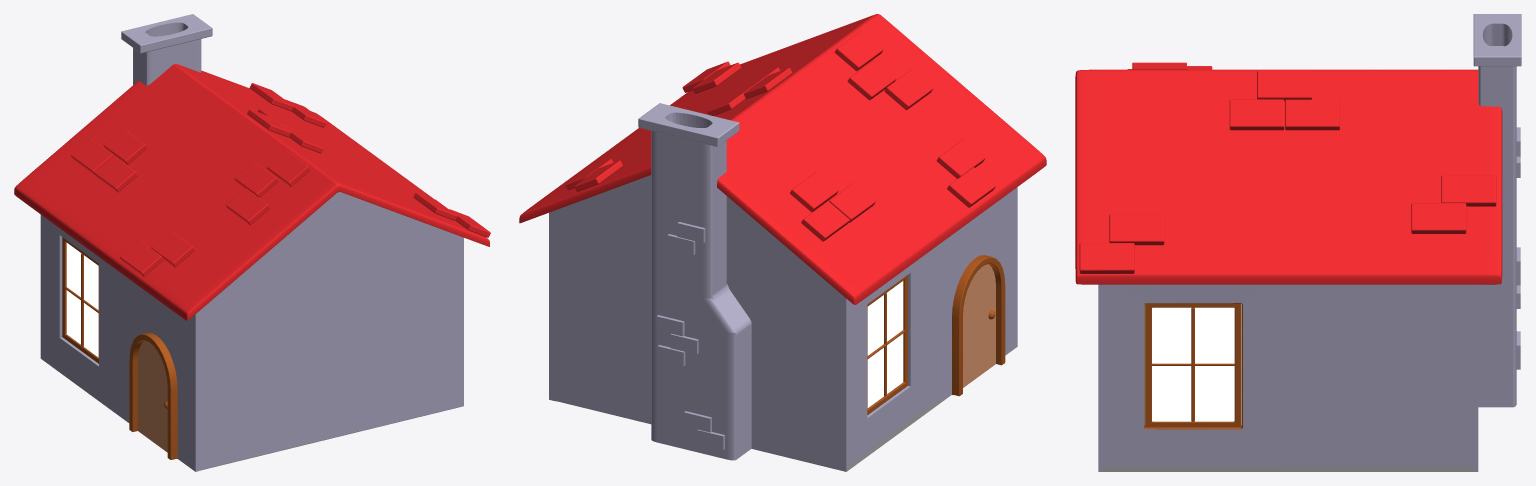
3 renders of one model, left to right at view 1: azimuth 30°, elevation 25°; view 2: azimuth 150°, elevation 25°; view 3: azimuth 270°, elevation 25°, orthographic. The views are drawn at different scales.
Visible parts, largest first — view 1: ДОМ.001, черепица, ДВЕРЬ, труба, ОКНО.002; view 2: черепица, ДОМ.001, труба, ДВЕРЬ, ОКНО.002, ПОЛ; view 3: черепица, ДОМ.001, ОКНО, труба, ПОЛ.
Boxes of the visible parts, box(x1,y1,x2,y2) form: ДОМ.001: box(40, 192, 463, 471); черепица: box(14, 64, 490, 320); ДВЕРЬ: box(129, 332, 177, 459); труба: box(121, 14, 212, 85); ОКНО.002: box(62, 237, 98, 363); черепица: box(519, 14, 1046, 304); ДОМ.001: box(549, 175, 1017, 471); труба: box(638, 103, 751, 460); ДВЕРЬ: box(952, 255, 1005, 396); ОКНО.002: box(867, 275, 907, 414); ПОЛ: box(556, 346, 1012, 471); черепица: box(1075, 62, 1502, 284); ДОМ.001: box(1098, 284, 1478, 471); ОКНО: box(1144, 303, 1242, 429); труба: box(1473, 14, 1521, 407); ПОЛ: box(1098, 304, 1477, 471).
Bounding box in the file's own units: 4561 × 4140 × 4694.
